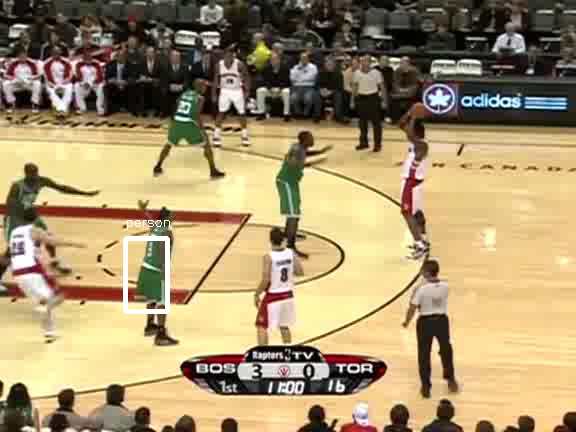person: (139, 225, 173, 306), (138, 225, 172, 306), (140, 225, 174, 306), (139, 224, 173, 305), (139, 226, 173, 307)
target_negative: (167, 175, 463, 349), (198, 271, 394, 391), (387, 285, 567, 410), (394, 225, 548, 368), (532, 326, 551, 421), (480, 35, 487, 279)
